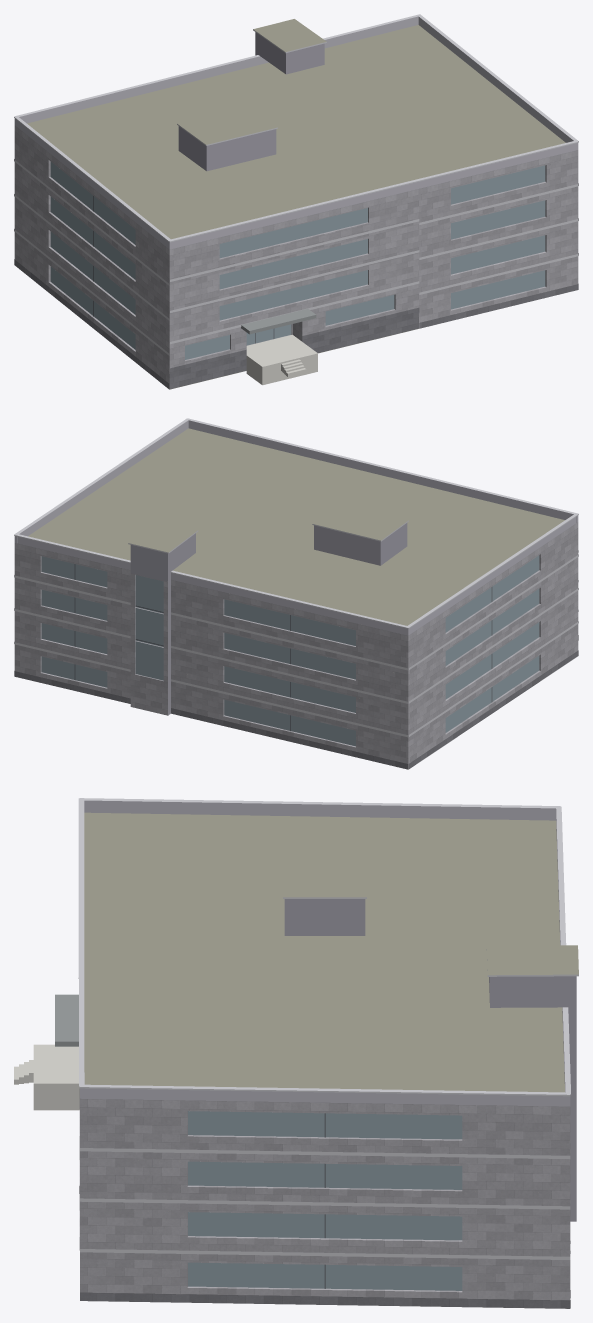
The picture shows the model from 3 angles, top to bottom: view 1: azimuth 30°, elevation 25°; view 2: azimuth 150°, elevation 25°; view 3: azimuth 270°, elevation 25°; orthographic projection. The views are drawn at different scales.
Parts seen in each view (by area): view 1: b132__roof, b132__wall, b132__glass, b132__trim, b132__parapet, b132__base, b132__wall2, b132__entranceStair, b132__canopy; view 2: b132__roof, b132__wall, b132__glass, b132__parapet, b132__trim, b132__wall2, b132__base; view 3: b132__roof, b132__wall, b132__glass, b132__trim, b132__parapet, b132__wall2, b132__base, b132__entranceStair, b132__canopy.
Part boxes in pixels (left/top/right/bottom): b132__roof: left=27, top=19, right=565, bottom=389; b132__wall: left=14, top=125, right=578, bottom=388; b132__glass: left=50, top=162, right=545, bottom=359; b132__trim: left=14, top=14, right=578, bottom=355; b132__parapet: left=14, top=16, right=578, bottom=249; b132__base: left=14, top=259, right=578, bottom=389; b132__wall2: left=178, top=32, right=324, bottom=171; b132__entranceStair: left=246, top=334, right=317, bottom=385; b132__canopy: left=241, top=309, right=316, bottom=334; b132__roof: left=28, top=428, right=564, bottom=769; b132__wall: left=14, top=522, right=578, bottom=769; b132__glass: left=41, top=555, right=539, bottom=746; b132__parapet: left=14, top=420, right=578, bottom=635; b132__trim: left=14, top=418, right=578, bottom=737; b132__wall2: left=130, top=523, right=407, bottom=715; b132__base: left=14, top=635, right=578, bottom=769; b132__roof: left=84, top=812, right=578, bottom=1308; b132__wall: left=79, top=1088, right=570, bottom=1300; b132__glass: left=188, top=1111, right=462, bottom=1290; b132__trim: left=78, top=798, right=578, bottom=1259; b132__parapet: left=80, top=800, right=570, bottom=1106; b132__wall2: left=284, top=899, right=576, bottom=1221; b132__base: left=79, top=1186, right=570, bottom=1308; b132__entranceStair: left=14, top=1044, right=79, bottom=1110; b132__canopy: left=55, top=994, right=78, bottom=1046.
Size of the model in its own units: 45.38 by 17.97 by 36.51.
Materials: 11 (2 with a texture image).
